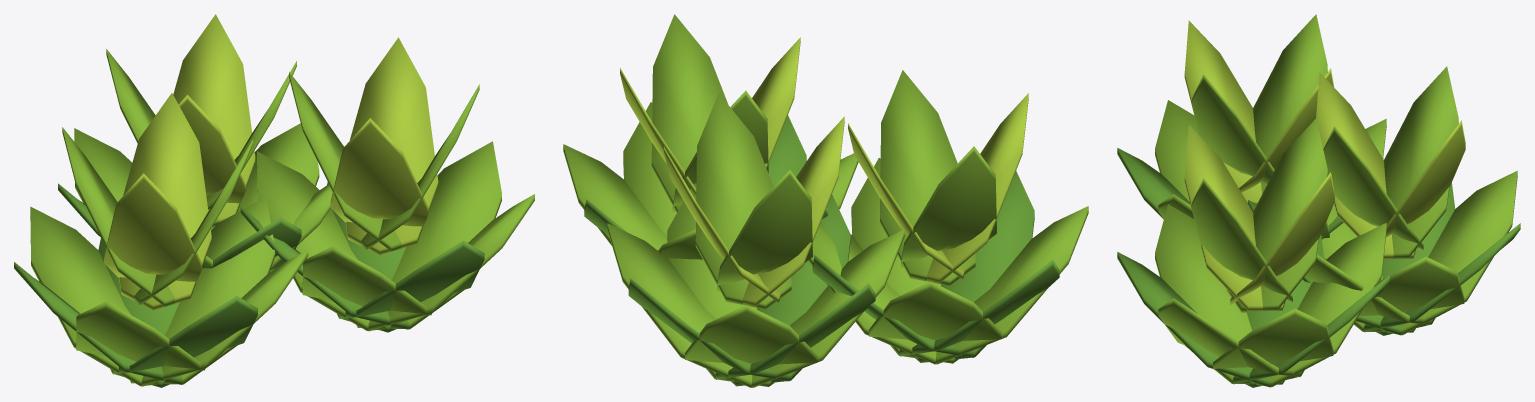
File: stage_2_leaf.glb
3 views of the same model, side by side, from view 1: azimuth 30°, elevation 25°; view 2: azimuth 150°, elevation 25°; view 3: azimuth 270°, elevation 25° (orthographic). The views are drawn at different scales.
Parts seen in each view (by area): view 1: 内叶.004, 内叶, 外叶.007, 内叶.008, 外叶.002, 内叶.002, 内叶.006, 外叶, 外叶.009, 外叶.004, 外叶.011, 外叶.012 (+19 smaller); view 2: 内叶.011, 内叶.003, 内叶.007, 内叶.009, 内叶.001, 外叶.014, 外叶.004, 外叶.016, 外叶.002, 外叶.018, 外叶.005, 外叶.007 (+20 smaller); view 3: 内叶.005, 内叶.009, 外叶.011, 外叶.016, 内叶.001, 外叶.009, 内叶.006, 内叶.007, 内叶.011, 内叶.003, 外叶.007, 内叶.010 (+18 smaller).
Boxes of the visible parts, <box> form: 内叶.004: <box>346,37,438,254</box>; 内叶: <box>119,93,211,310</box>; 外叶.007: <box>356,141,501,329</box>; 内叶.008: <box>173,14,255,222</box>; 外叶.002: <box>30,206,158,386</box>; 内叶.002: <box>104,173,201,282</box>; 内叶.006: <box>330,118,428,227</box>; 外叶: <box>130,197,275,384</box>; 外叶.009: <box>257,151,384,330</box>; 外叶.004: <box>76,301,204,370</box>; 外叶.011: <box>302,246,431,315</box>; 外叶.012: <box>339,240,484,318</box>; 内叶.011: <box>695,93,791,309</box>; 内叶.003: <box>880,70,975,285</box>; 内叶.007: <box>651,14,728,212</box>; 内叶.009: <box>717,170,812,291</box>; 内叶.001: <box>901,146,996,267</box>; 外叶.014: <box>607,223,765,387</box>; 外叶.004: <box>936,206,1088,364</box>; 外叶.016: <box>685,305,817,364</box>; 外叶.002: <box>869,281,1001,340</box>; 外叶.018: <box>752,229,904,387</box>; 外叶.005: <box>915,171,1034,362</box>; 外叶.007: <box>563,144,667,250</box>; 内叶.005: <box>1226,118,1327,312</box>; 内叶.009: <box>1383,66,1458,259</box>; 外叶.011: <box>1155,204,1284,384</box>; 外叶.016: <box>1387,170,1517,335</box>; 内叶.001: <box>1253,14,1327,193</box>; 外叶.009: <box>1256,223,1386,387</box>; 内叶.006: <box>1184,124,1285,311</box>; 内叶.007: <box>1192,178,1292,301</box>; 内叶.011: <box>1323,126,1423,249</box>; 内叶.003: <box>1192,74,1274,183</box>; 外叶.007: <box>1213,308,1333,369</box>; 内叶.010: <box>1316,72,1416,259</box>.
Bounding box in the file's own units: 1.02 × 0.4849 × 0.7868.
1 material, 1 textured.
